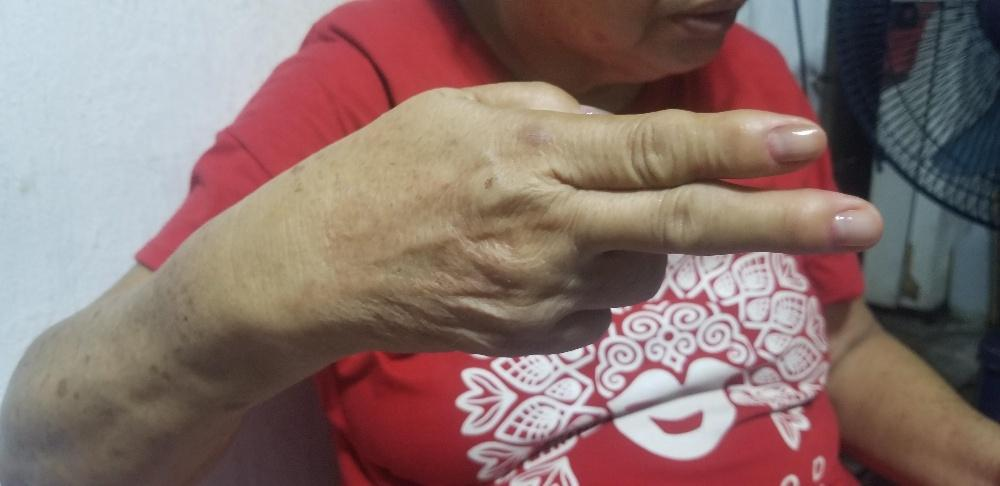h: (395, 78, 884, 356)
